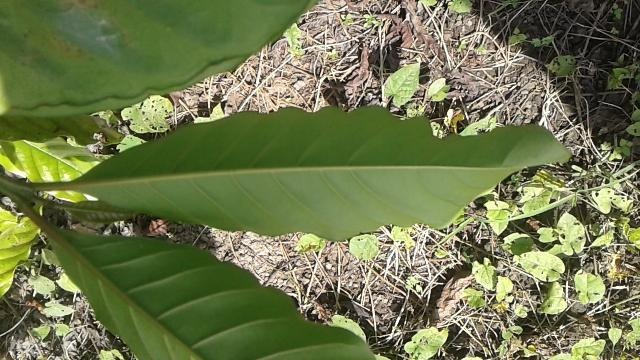healthy: (64, 100, 582, 243)
